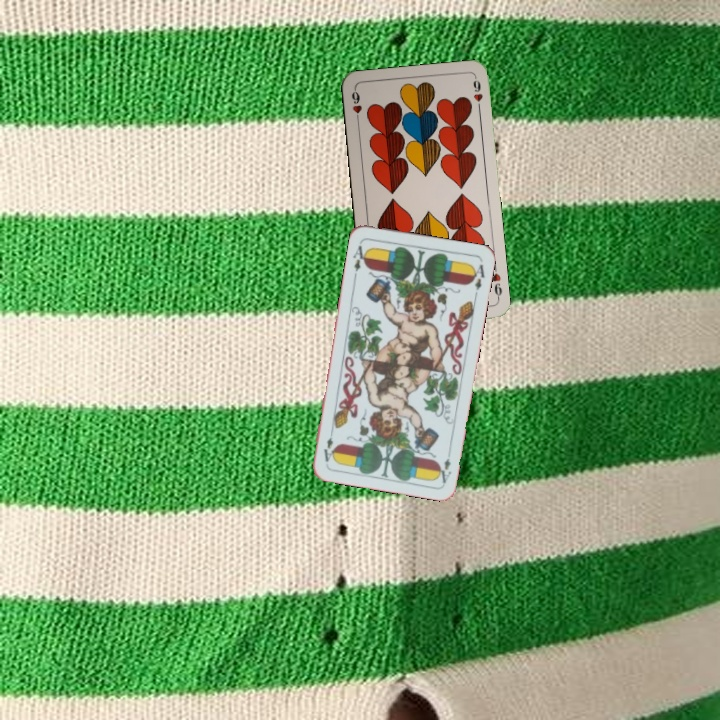EA: (349, 238, 370, 279), (434, 454, 454, 485)
H9: (488, 262, 505, 302), (348, 86, 364, 126)
